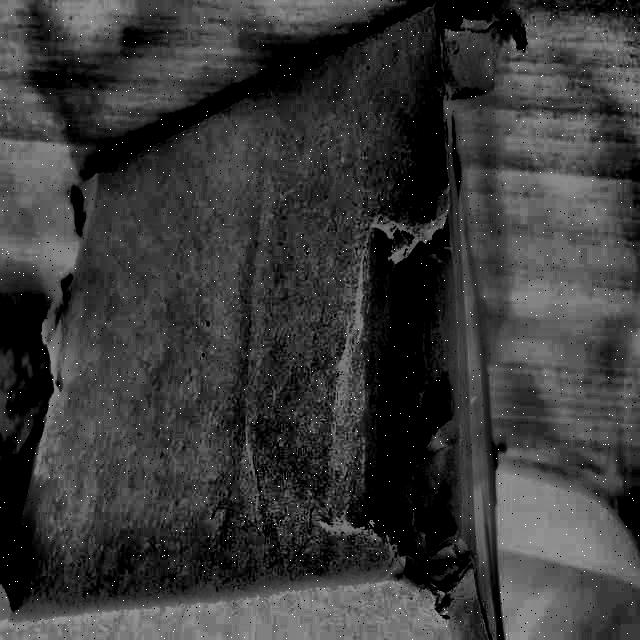box: (0, 0, 500, 640)
hole: (373, 183, 474, 620)
